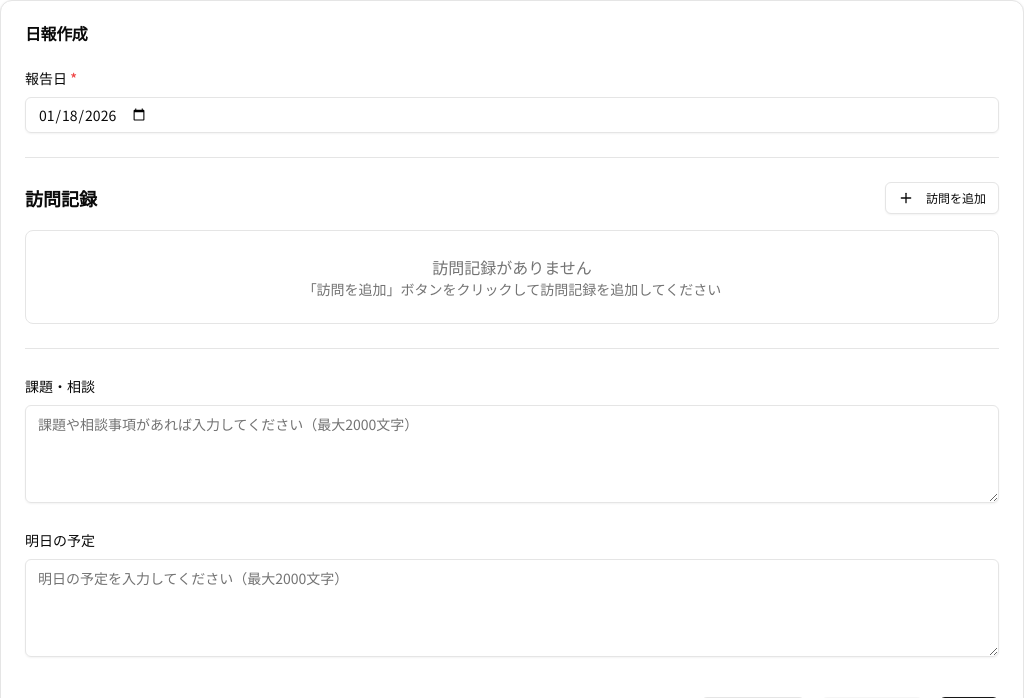
Test: ReportForm › add visit functionality › should add visit record when clicking add button
Click the button "訪問を追加".
click(942, 198)  # box [885,182,999,214]
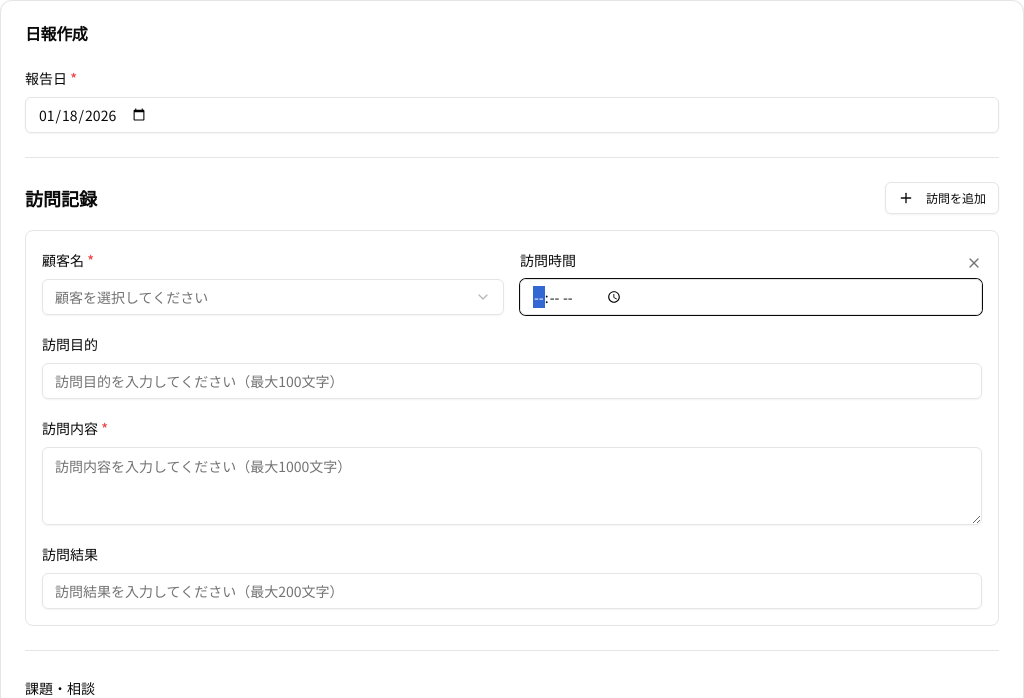
Now the element named "訪問記録 1" is shown, box [25,230,999,626]
Now the text "訪問記録がありません" is gone
